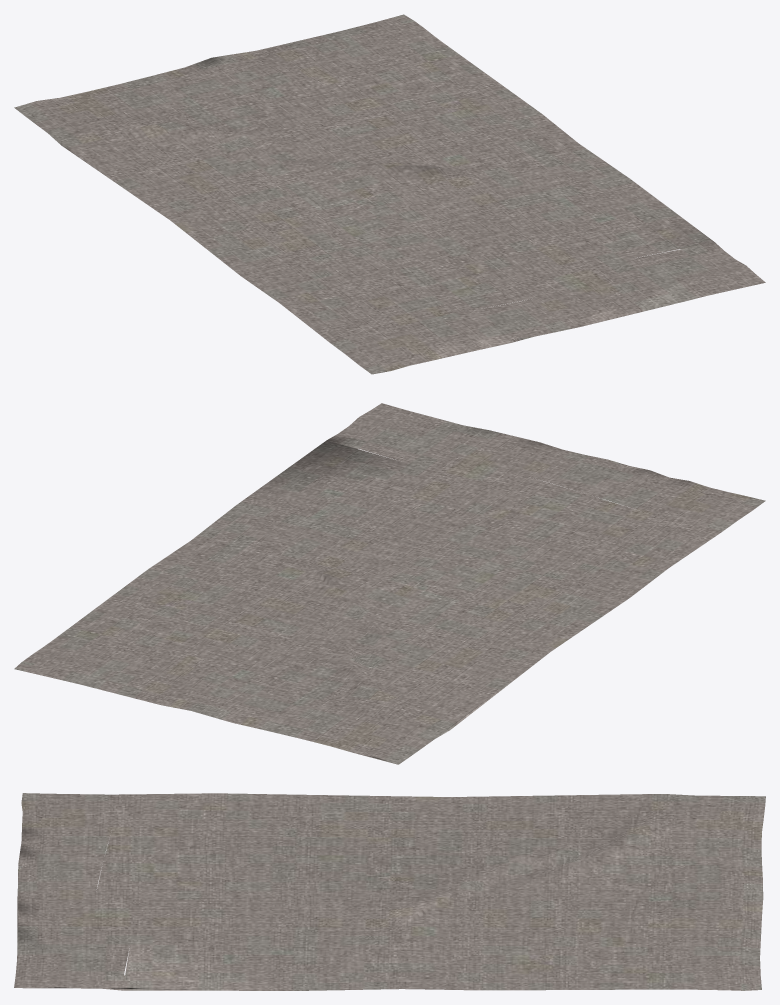
File: Carpet0022.obj
The picture shows the model from 3 angles, top to bottom: view 1: azimuth 30°, elevation 25°; view 2: azimuth 150°, elevation 25°; view 3: azimuth 270°, elevation 25°; orthographic projection. The views are drawn at different scales.
Size of the model in its own units: 1.88 by 0.036 by 3.03.
1 material, 1 textured.
